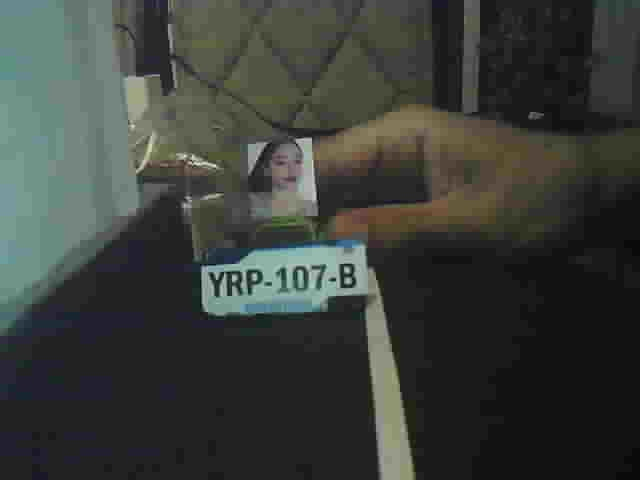PLACA: (198, 239, 371, 319)
ROSTRO: (249, 144, 315, 216)
